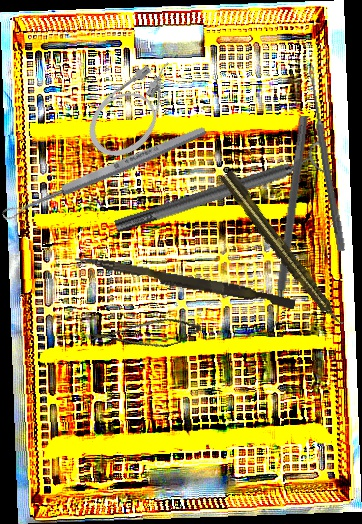Cannula: (75, 47, 197, 171)
Fixation Ring: (109, 138, 335, 243)
Handpiece: (218, 168, 348, 332)
Micro Scissor: (88, 304, 204, 367)
Pusher: (73, 254, 297, 310)
Spatula Surgical: (263, 114, 309, 333)
Surgical Spoon: (0, 123, 208, 223), (305, 65, 347, 252)
